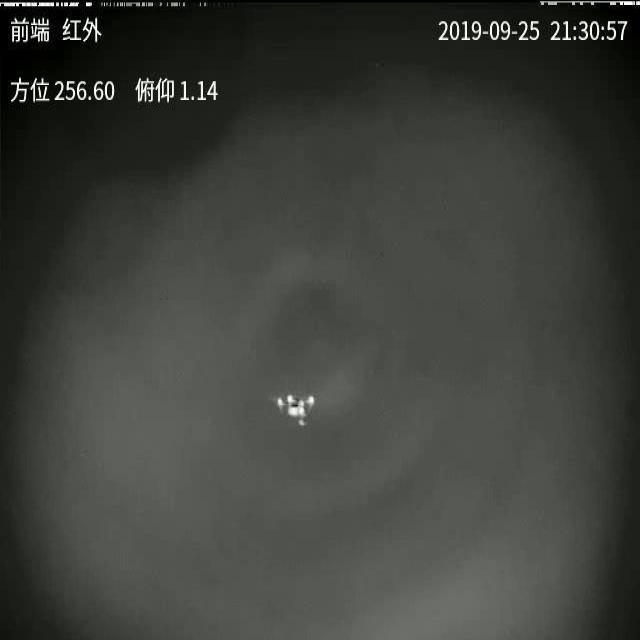drone: (269, 394, 322, 428)
